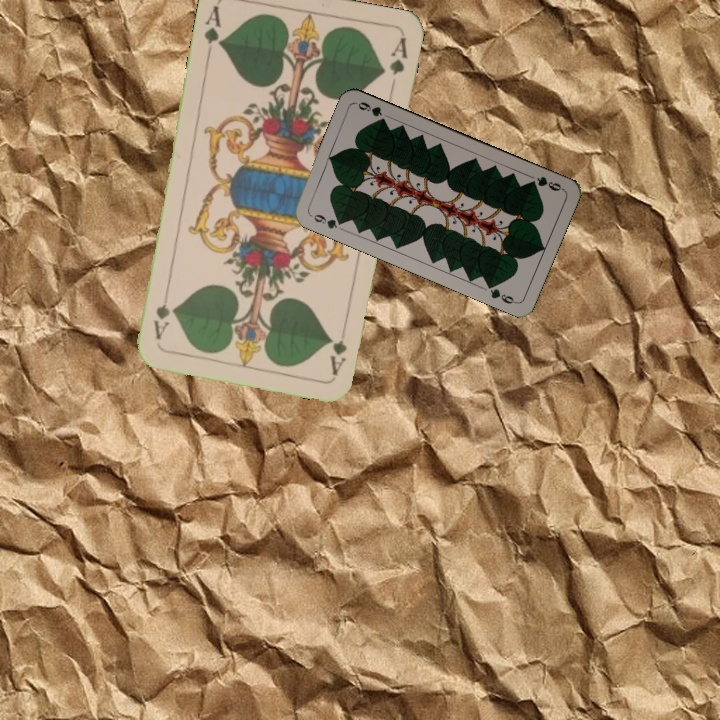G9: (525, 172, 566, 194), (306, 210, 347, 232)
GA: (199, 1, 225, 59), (326, 335, 350, 378)
